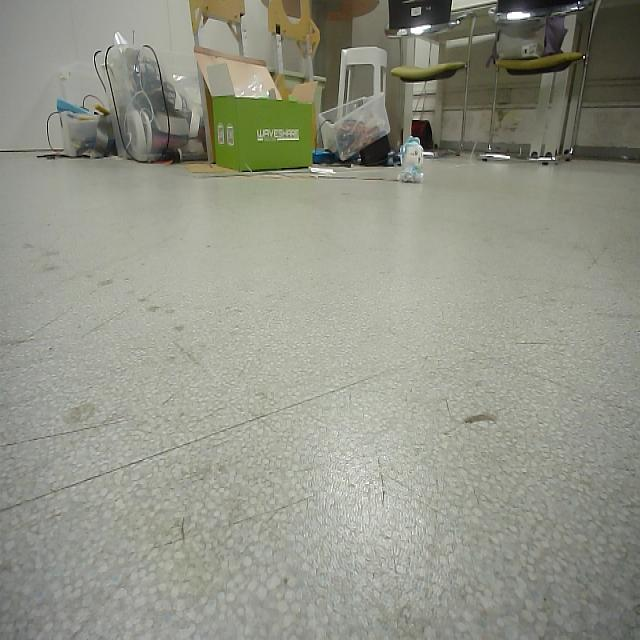xiaoba: (398, 132, 428, 184)
